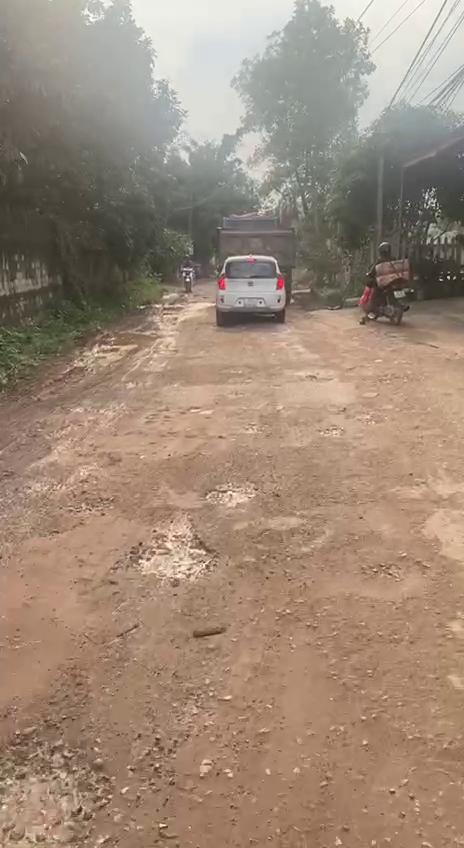pothole: (0, 693, 129, 848), (295, 530, 442, 606), (33, 449, 123, 538), (126, 512, 216, 580), (205, 476, 261, 508), (319, 424, 346, 440)
